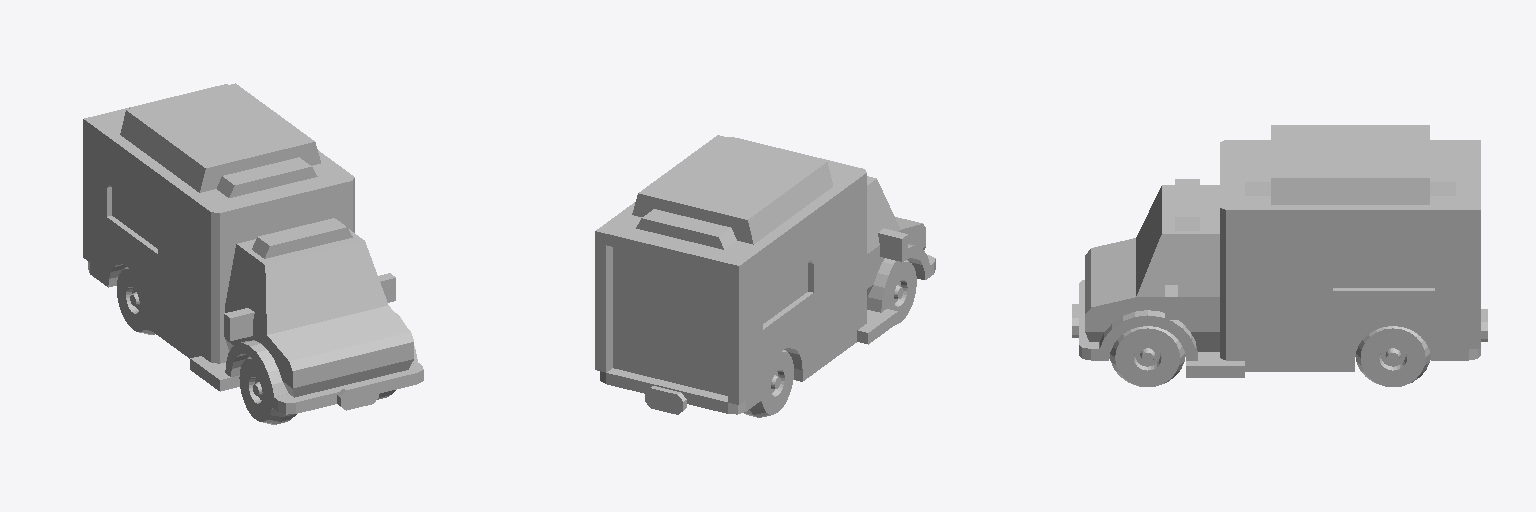
File: AmbulanceTest.obj
3 views of the same model, side by side, from view 1: azimuth 30°, elevation 25°; view 2: azimuth 150°, elevation 25°; view 3: azimuth 270°, elevation 25° (orthographic).
Visible parts, largest first — view 1: AmbulanceTest; view 2: AmbulanceTest; view 3: AmbulanceTest.
Boxes of the visible parts, x1,y1,x2,y2 form: AmbulanceTest: [83, 83, 423, 424]; AmbulanceTest: [595, 135, 935, 417]; AmbulanceTest: [1072, 125, 1487, 386].
Bounding box in the file's own units: 0.51 × 0.612 × 1.1.